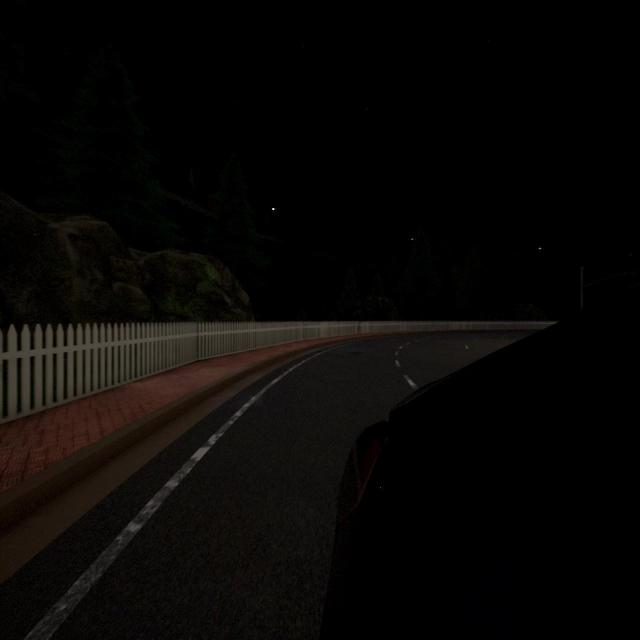Vehicle: (321, 289, 640, 640)
